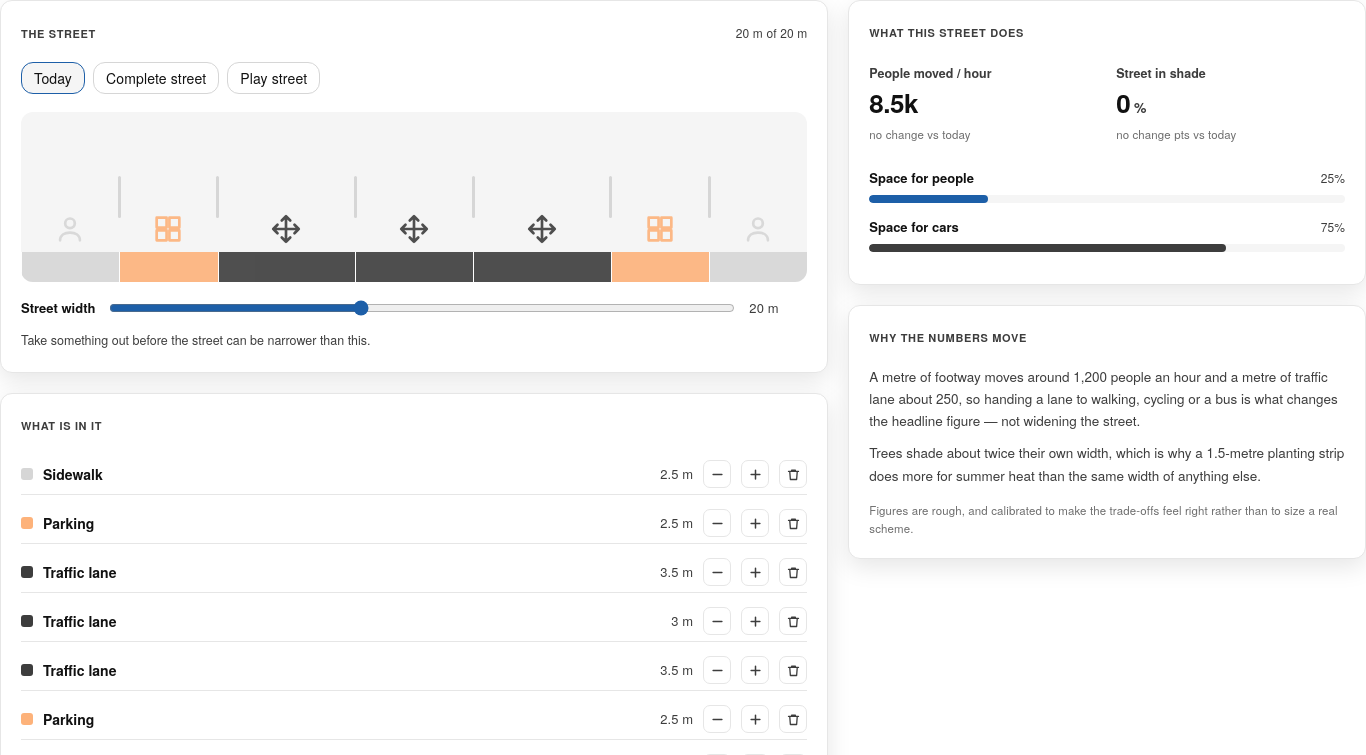
Street Section Mixer › trades width between neighbours when a segment is widened
What coordinates should you click on to do the following:
click the 1st button named "Widen Sidewalk"
I would click on:
 (755, 474)
Its box is [741,460,769,488].
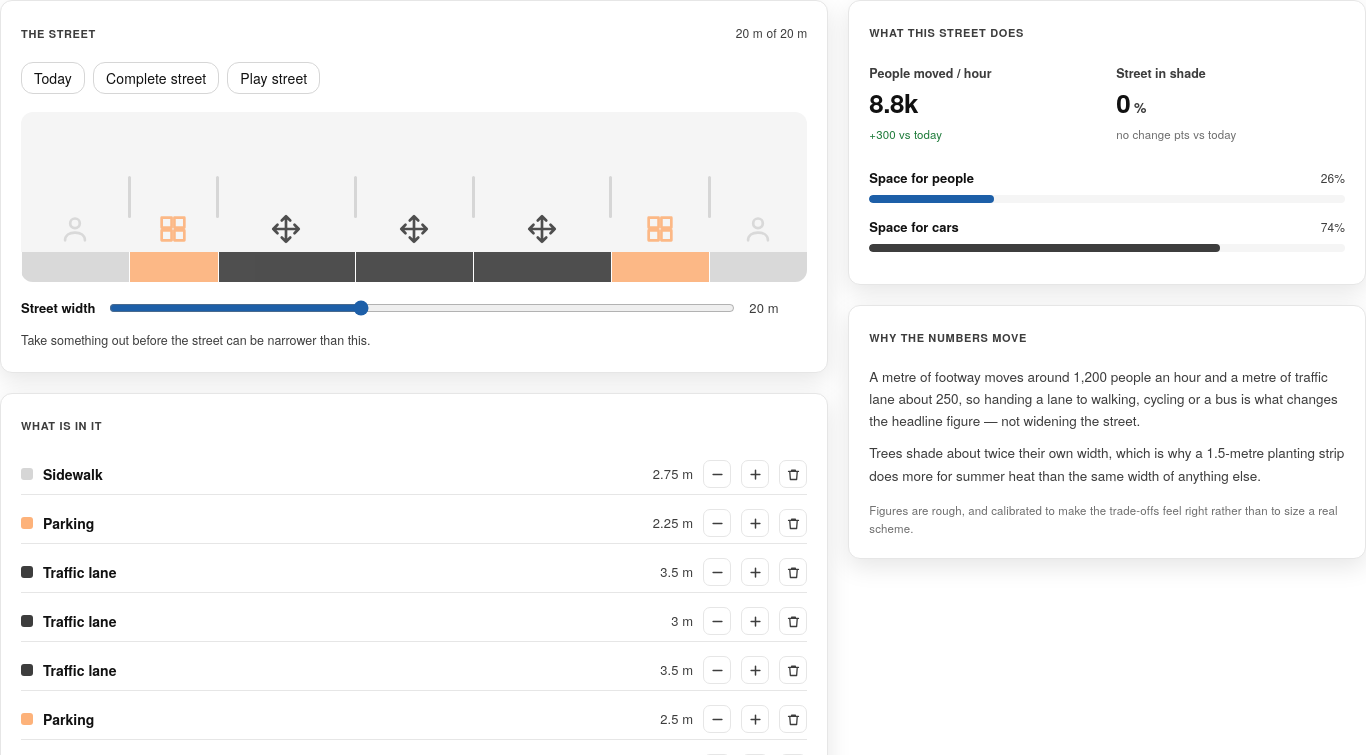
Check: the text "20 m of 20 m" is shown, box [736,21,807,45]
Check: the text "8.8k" is shown, box [869,84,918,121]
Check: the text "2.75 m" is shown, box [653,464,693,483]
